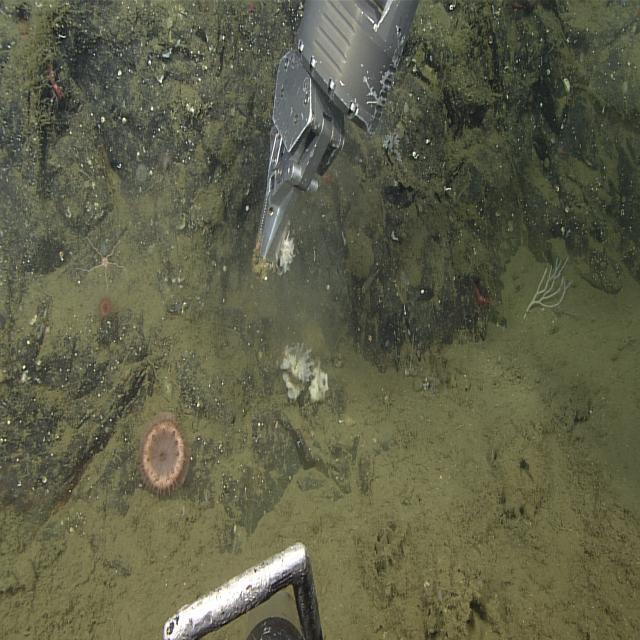Brittle Star: (73, 233, 128, 297)
Not Brittle Star: (136, 406, 192, 502), (522, 252, 578, 322), (43, 57, 67, 112), (468, 272, 496, 316)
